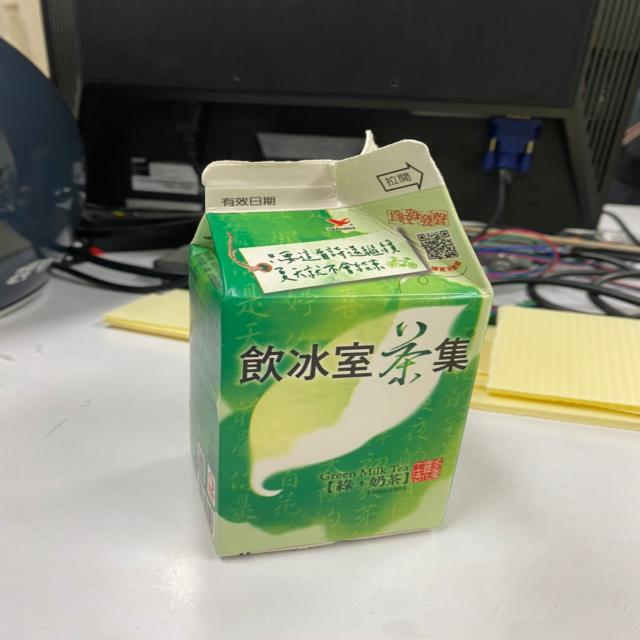non_white_jug: (162, 145, 510, 569)
